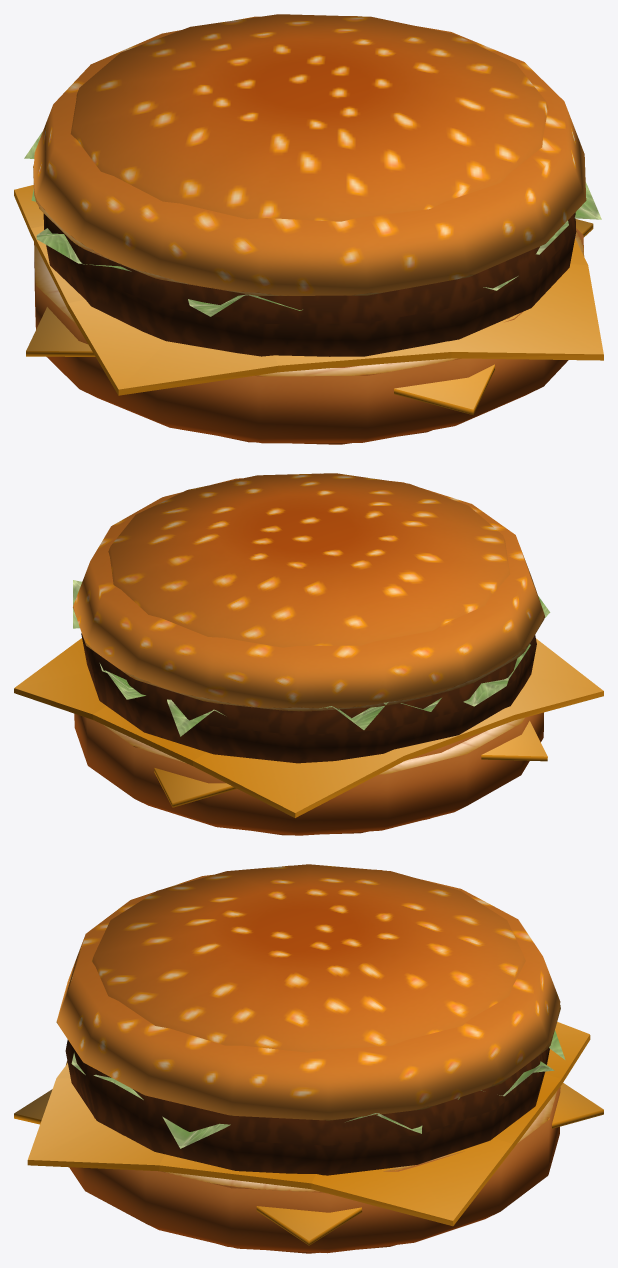
The model's file is hamburguesas.fbx.
3 renders of one model, top to bottom at view 1: azimuth 30°, elevation 25°; view 2: azimuth 150°, elevation 25°; view 3: azimuth 270°, elevation 25°, orthographic. The views are drawn at different scales.
Parts seen in each view (by area): view 1: burger-v1, burger-v2; view 2: burger-v1, burger-v2; view 3: burger-v1, burger-v2.
Boxes of the visible parts, left/top/right/bottom form: burger-v1: left=14, top=16, right=603, bottom=443; burger-v2: left=24, top=14, right=601, bottom=444; burger-v1: left=14, top=478, right=603, bottom=835; burger-v2: left=73, top=473, right=550, bottom=835; burger-v1: left=27, top=865, right=590, bottom=1253; burger-v2: left=14, top=864, right=603, bottom=1253.
Size of the model in its own units: 22.35 by 9.97 by 22.35.
Materials: 5 (5 with a texture image).
